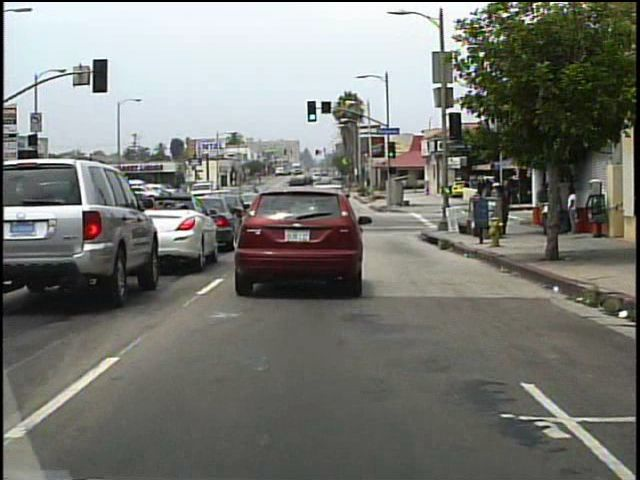person: (498, 182, 516, 236), (566, 186, 581, 236), (535, 182, 551, 226), (489, 181, 504, 223), (561, 182, 562, 237)
